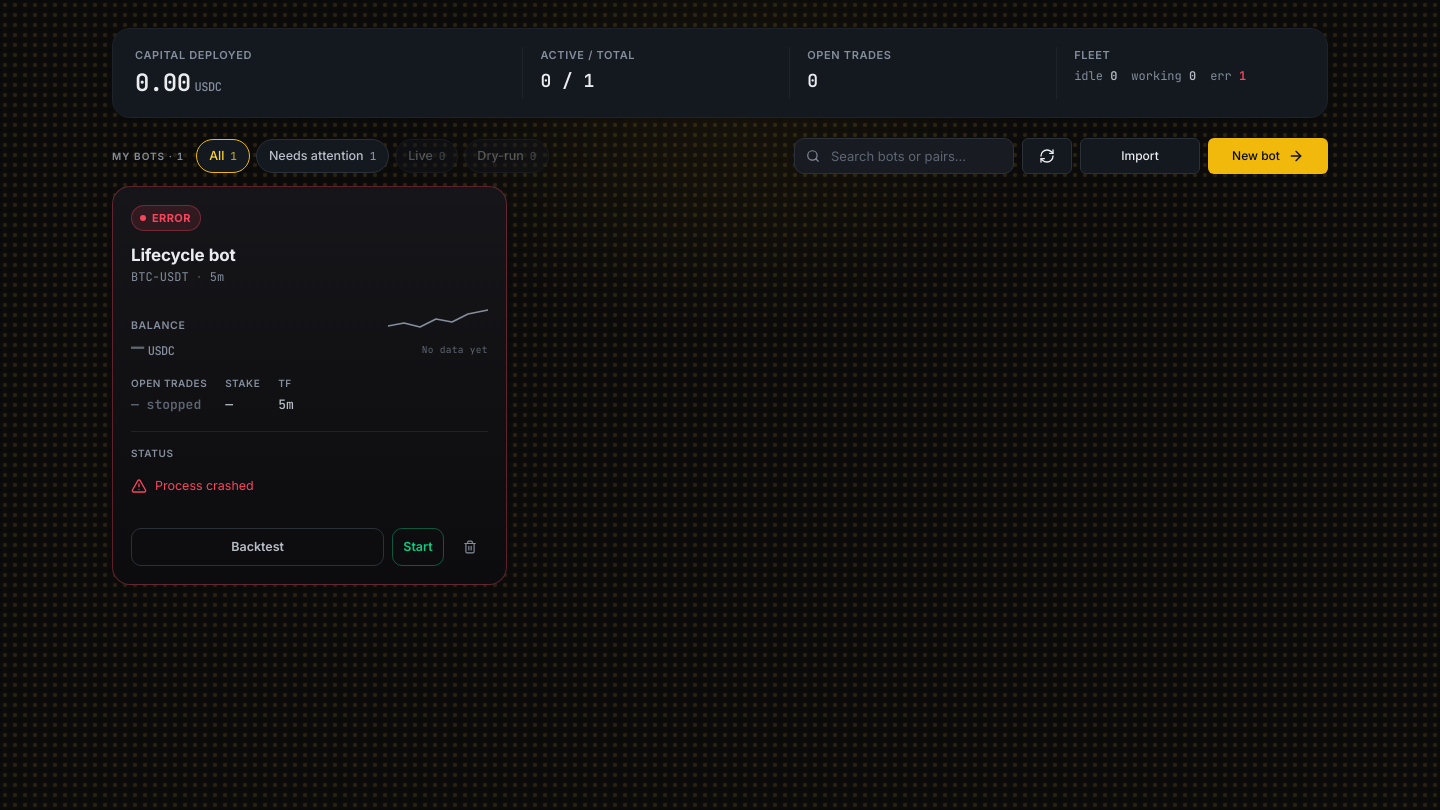
it: DashboardPage — lifecycle actions › ERROR bot shows Start (not Fix connection) and routes through the Launchpad
This screenshot has width=1440, height=810.
Expected: the heading "Lifecycle bot" is shown, [131, 245, 236, 265]
Click the button "Start".
click(418, 547)  # box [392, 528, 444, 566]
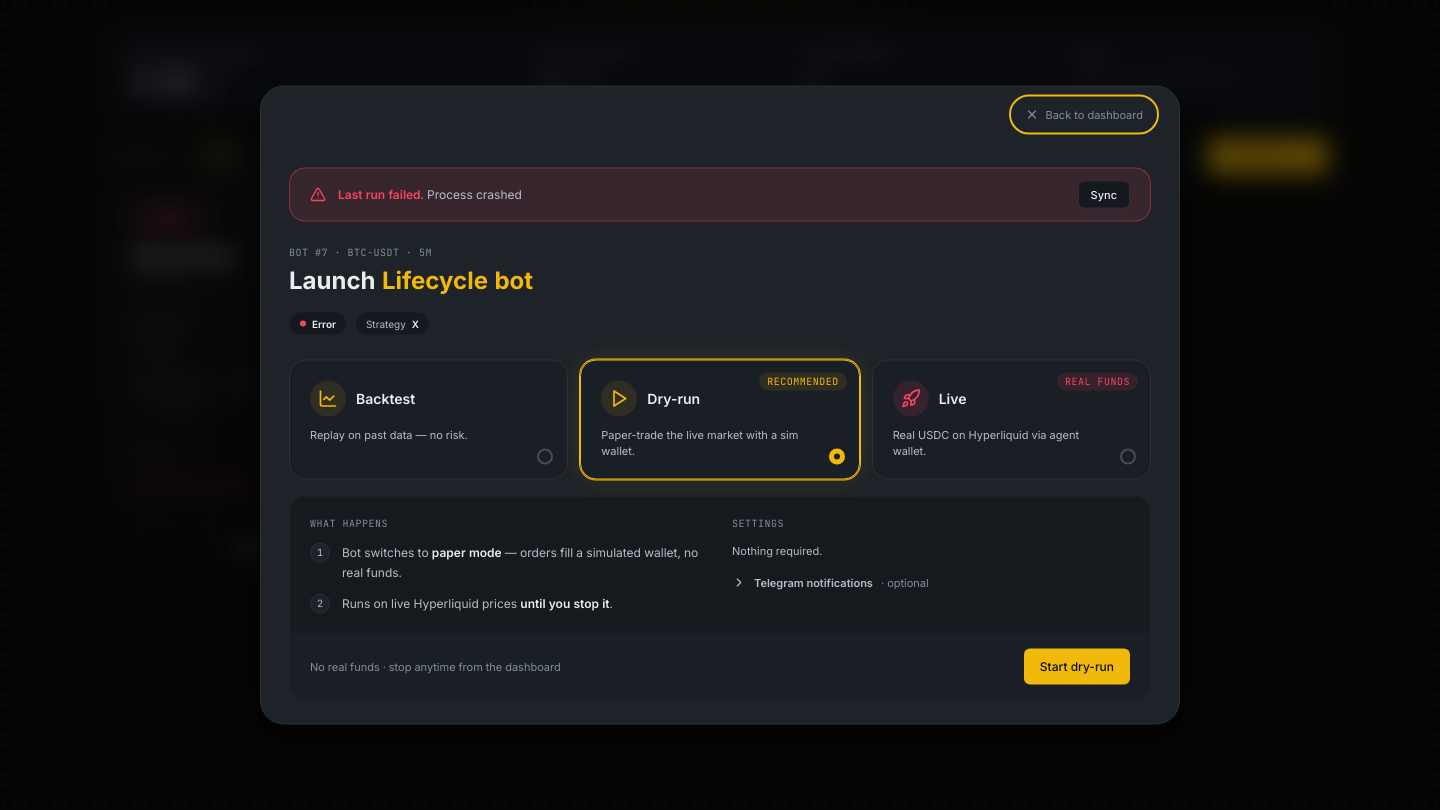
Expected: the button "Start dry-run" is shown, [1024, 648, 1130, 684]
